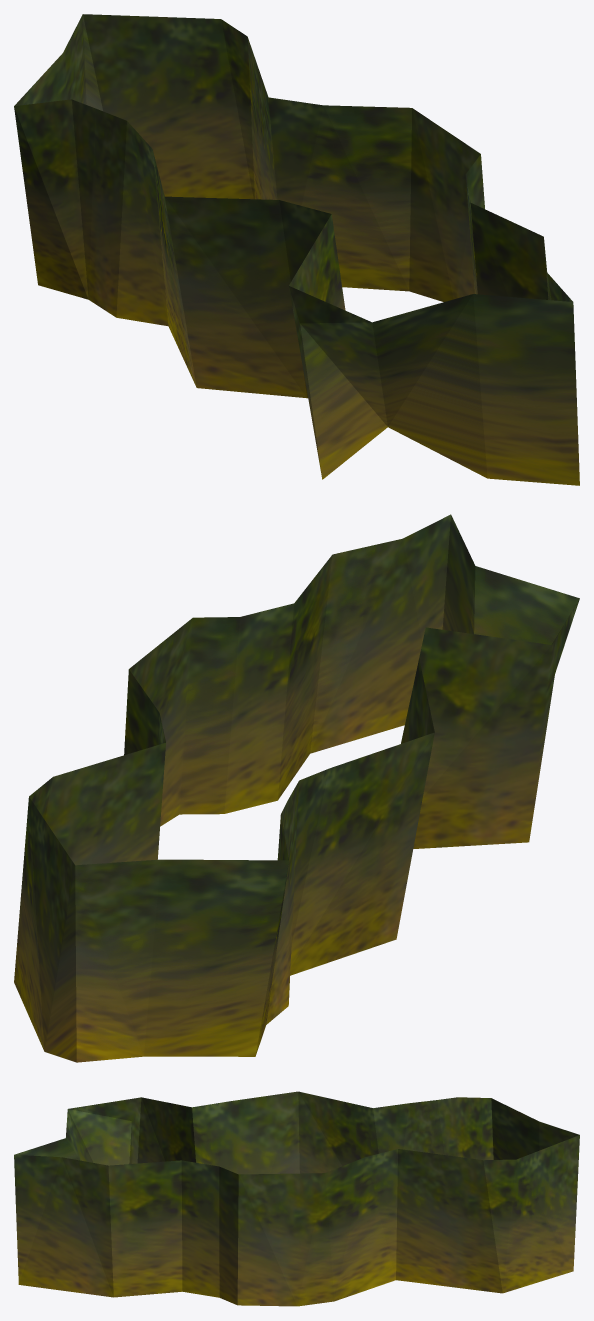
The model's file is Ridge_2_Lat.gltf.
The picture shows the model from 3 angles, top to bottom: view 1: azimuth 30°, elevation 25°; view 2: azimuth 150°, elevation 25°; view 3: azimuth 270°, elevation 25°; orthographic projection. The views are drawn at different scales.
Parts seen in each view (by area): view 1: Ridge_2_Lat; view 2: Ridge_2_Lat; view 3: Ridge_2_Lat.
Part boxes in pixels (left/top/right/bottom): Ridge_2_Lat: left=14, top=14, right=579, bottom=485; Ridge_2_Lat: left=14, top=514, right=579, bottom=1062; Ridge_2_Lat: left=14, top=1091, right=579, bottom=1306.
Bounding box in the file's own units: 35.84 × 25.53 × 88.32.
1 material, 1 textured.
